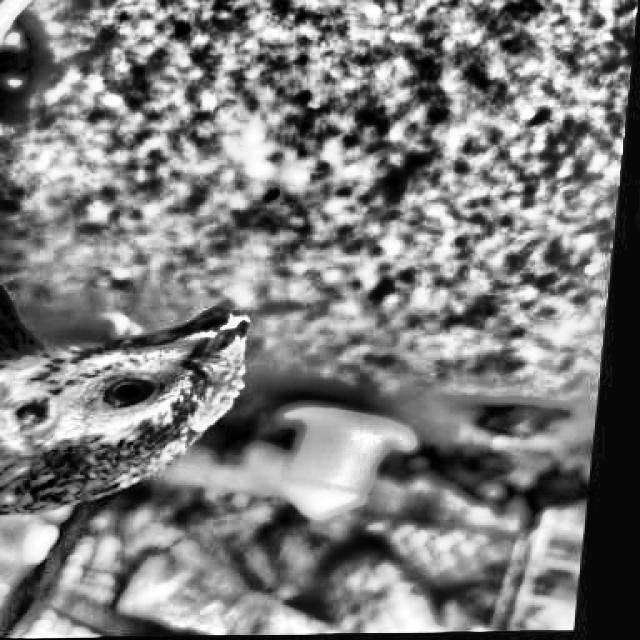Healthy: (85, 367, 162, 420)
